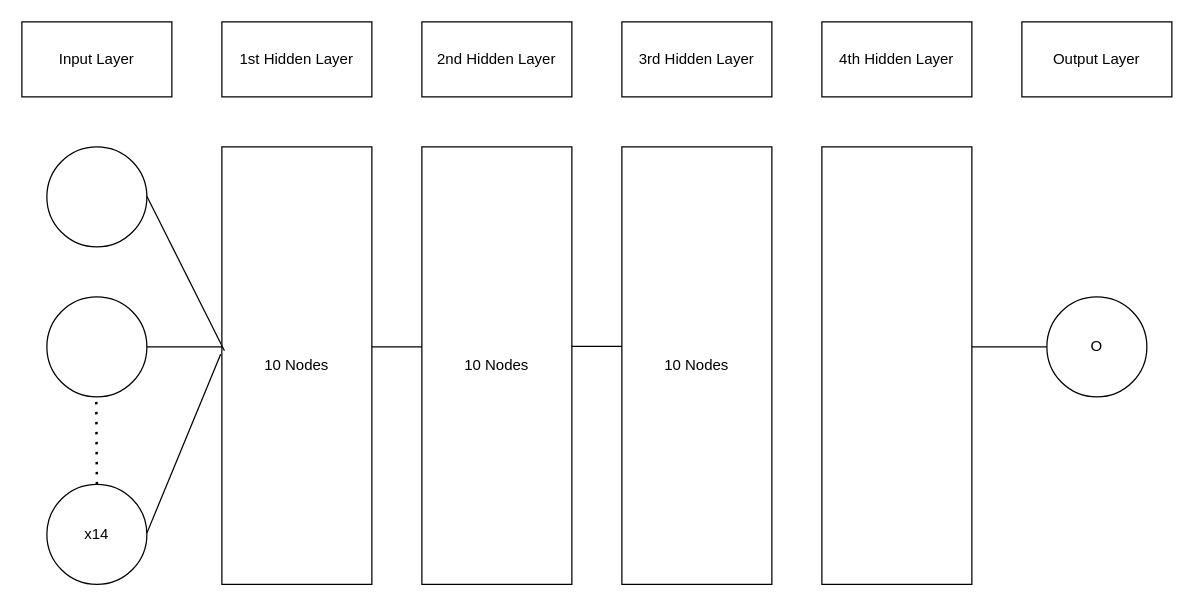
This 1194x606 diagram has some shape labels left out. The shapes that lost their labels are listed below. From the top down, each one's box as (x1, y1, x2, y2) in pixels, then its label:
(46, 146, 147, 247): x1
(46, 296, 147, 397): x2
(821, 146, 972, 584): 6 Nodes
